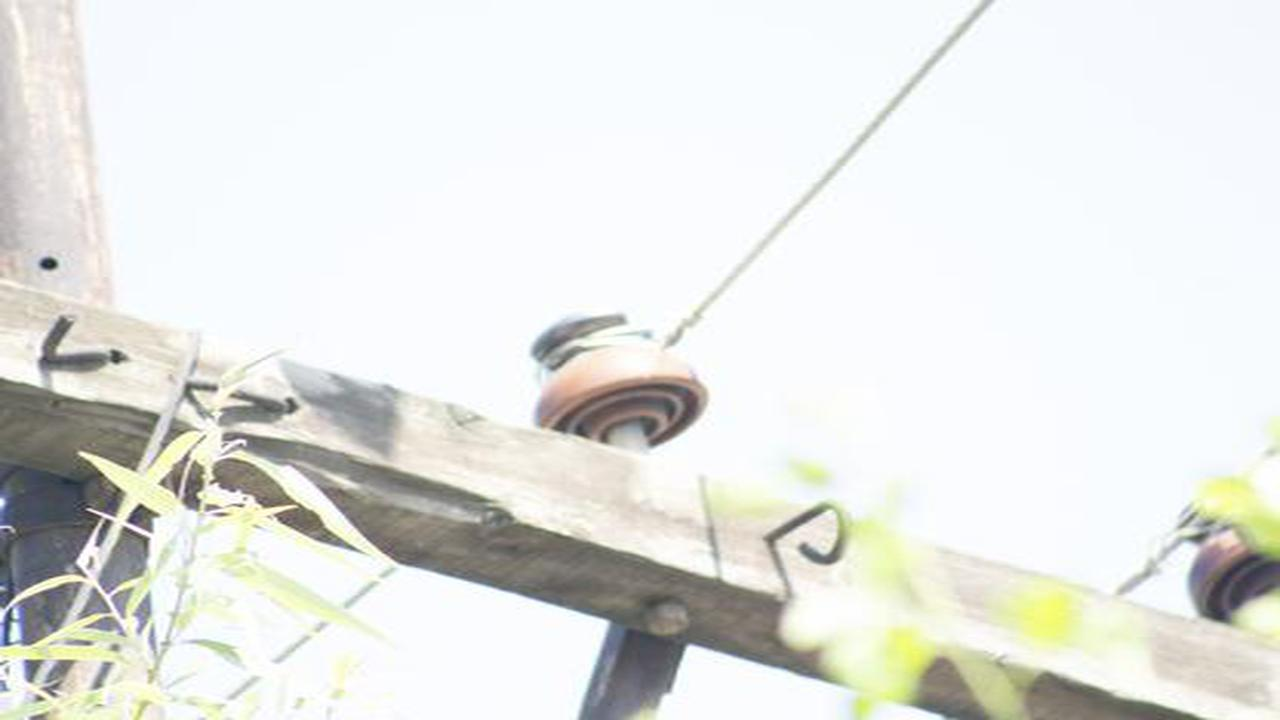insulator_pin: (524, 306, 717, 447)
